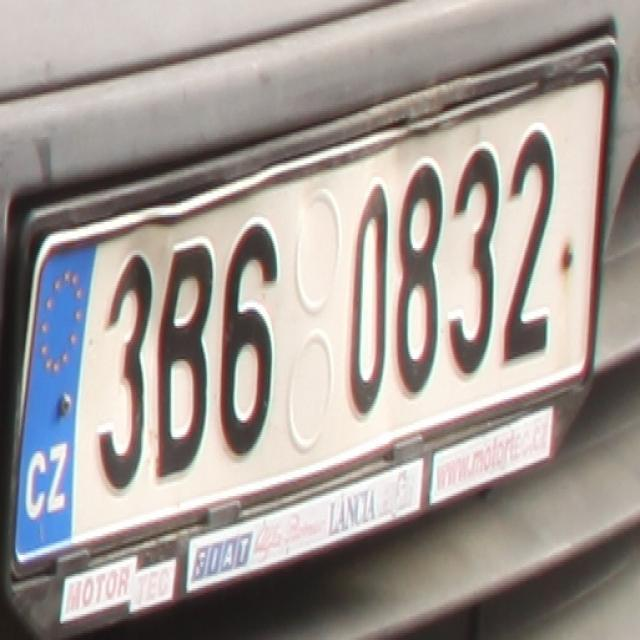0: (347, 182, 388, 416)
2: (502, 122, 556, 364)
3: (96, 250, 152, 496), (448, 142, 500, 378)
6: (217, 215, 278, 463)
8: (392, 153, 440, 394)
B: (156, 240, 210, 480)
